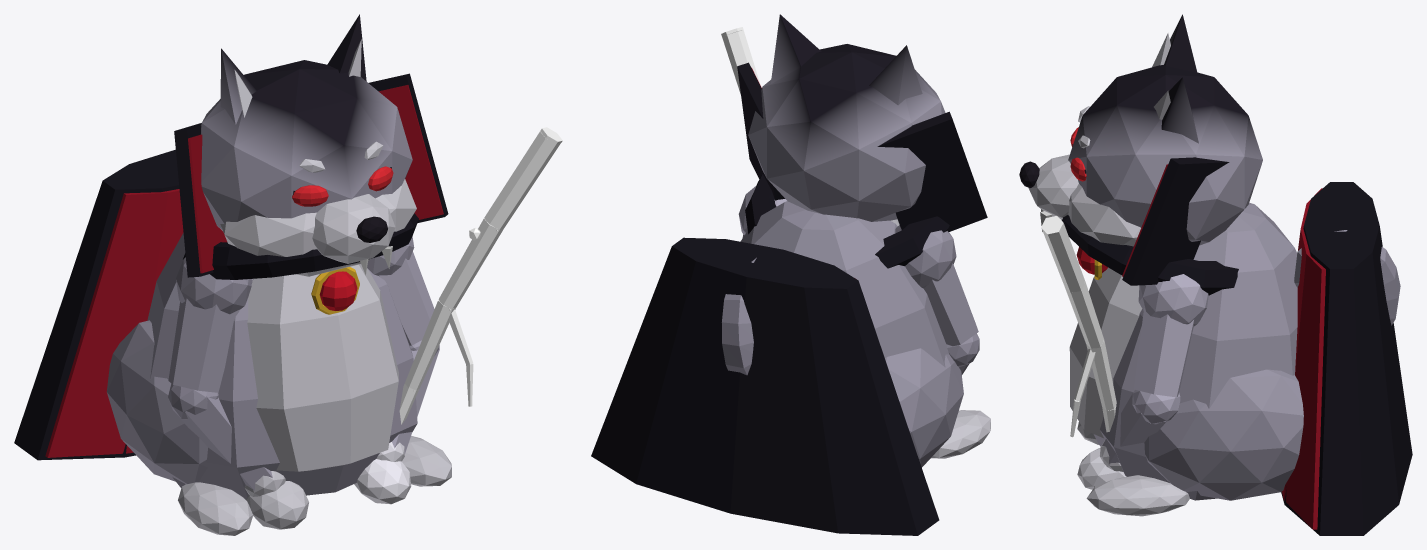
Rendered from VampireShiba.fbx.
3 renders of one model, left to right at view 1: azimuth 30°, elevation 25°; view 2: azimuth 150°, elevation 25°; view 3: azimuth 270°, elevation 25°, orthographic. The views are drawn at different scales.
Parts seen in each view (by area): view 1: Body, Stick, ThrowArm; view 2: Body, Stick; view 3: Body, ThrowArm, Stick.
Part boxes in pixels (left/top/right/bottom): Body: left=14, top=14, right=451, bottom=535; Stick: left=399, top=127, right=562, bottom=424; ThrowArm: left=354, top=236, right=439, bottom=504; Body: left=591, top=14, right=990, bottom=535; Stick: left=721, top=27, right=760, bottom=94; Body: left=1019, top=14, right=1412, bottom=535; ThrowArm: left=1077, top=274, right=1208, bottom=489; Stick: left=1041, top=216, right=1116, bottom=437.
Size of the model in its own units: 1.13 by 1.29 by 1.09.
